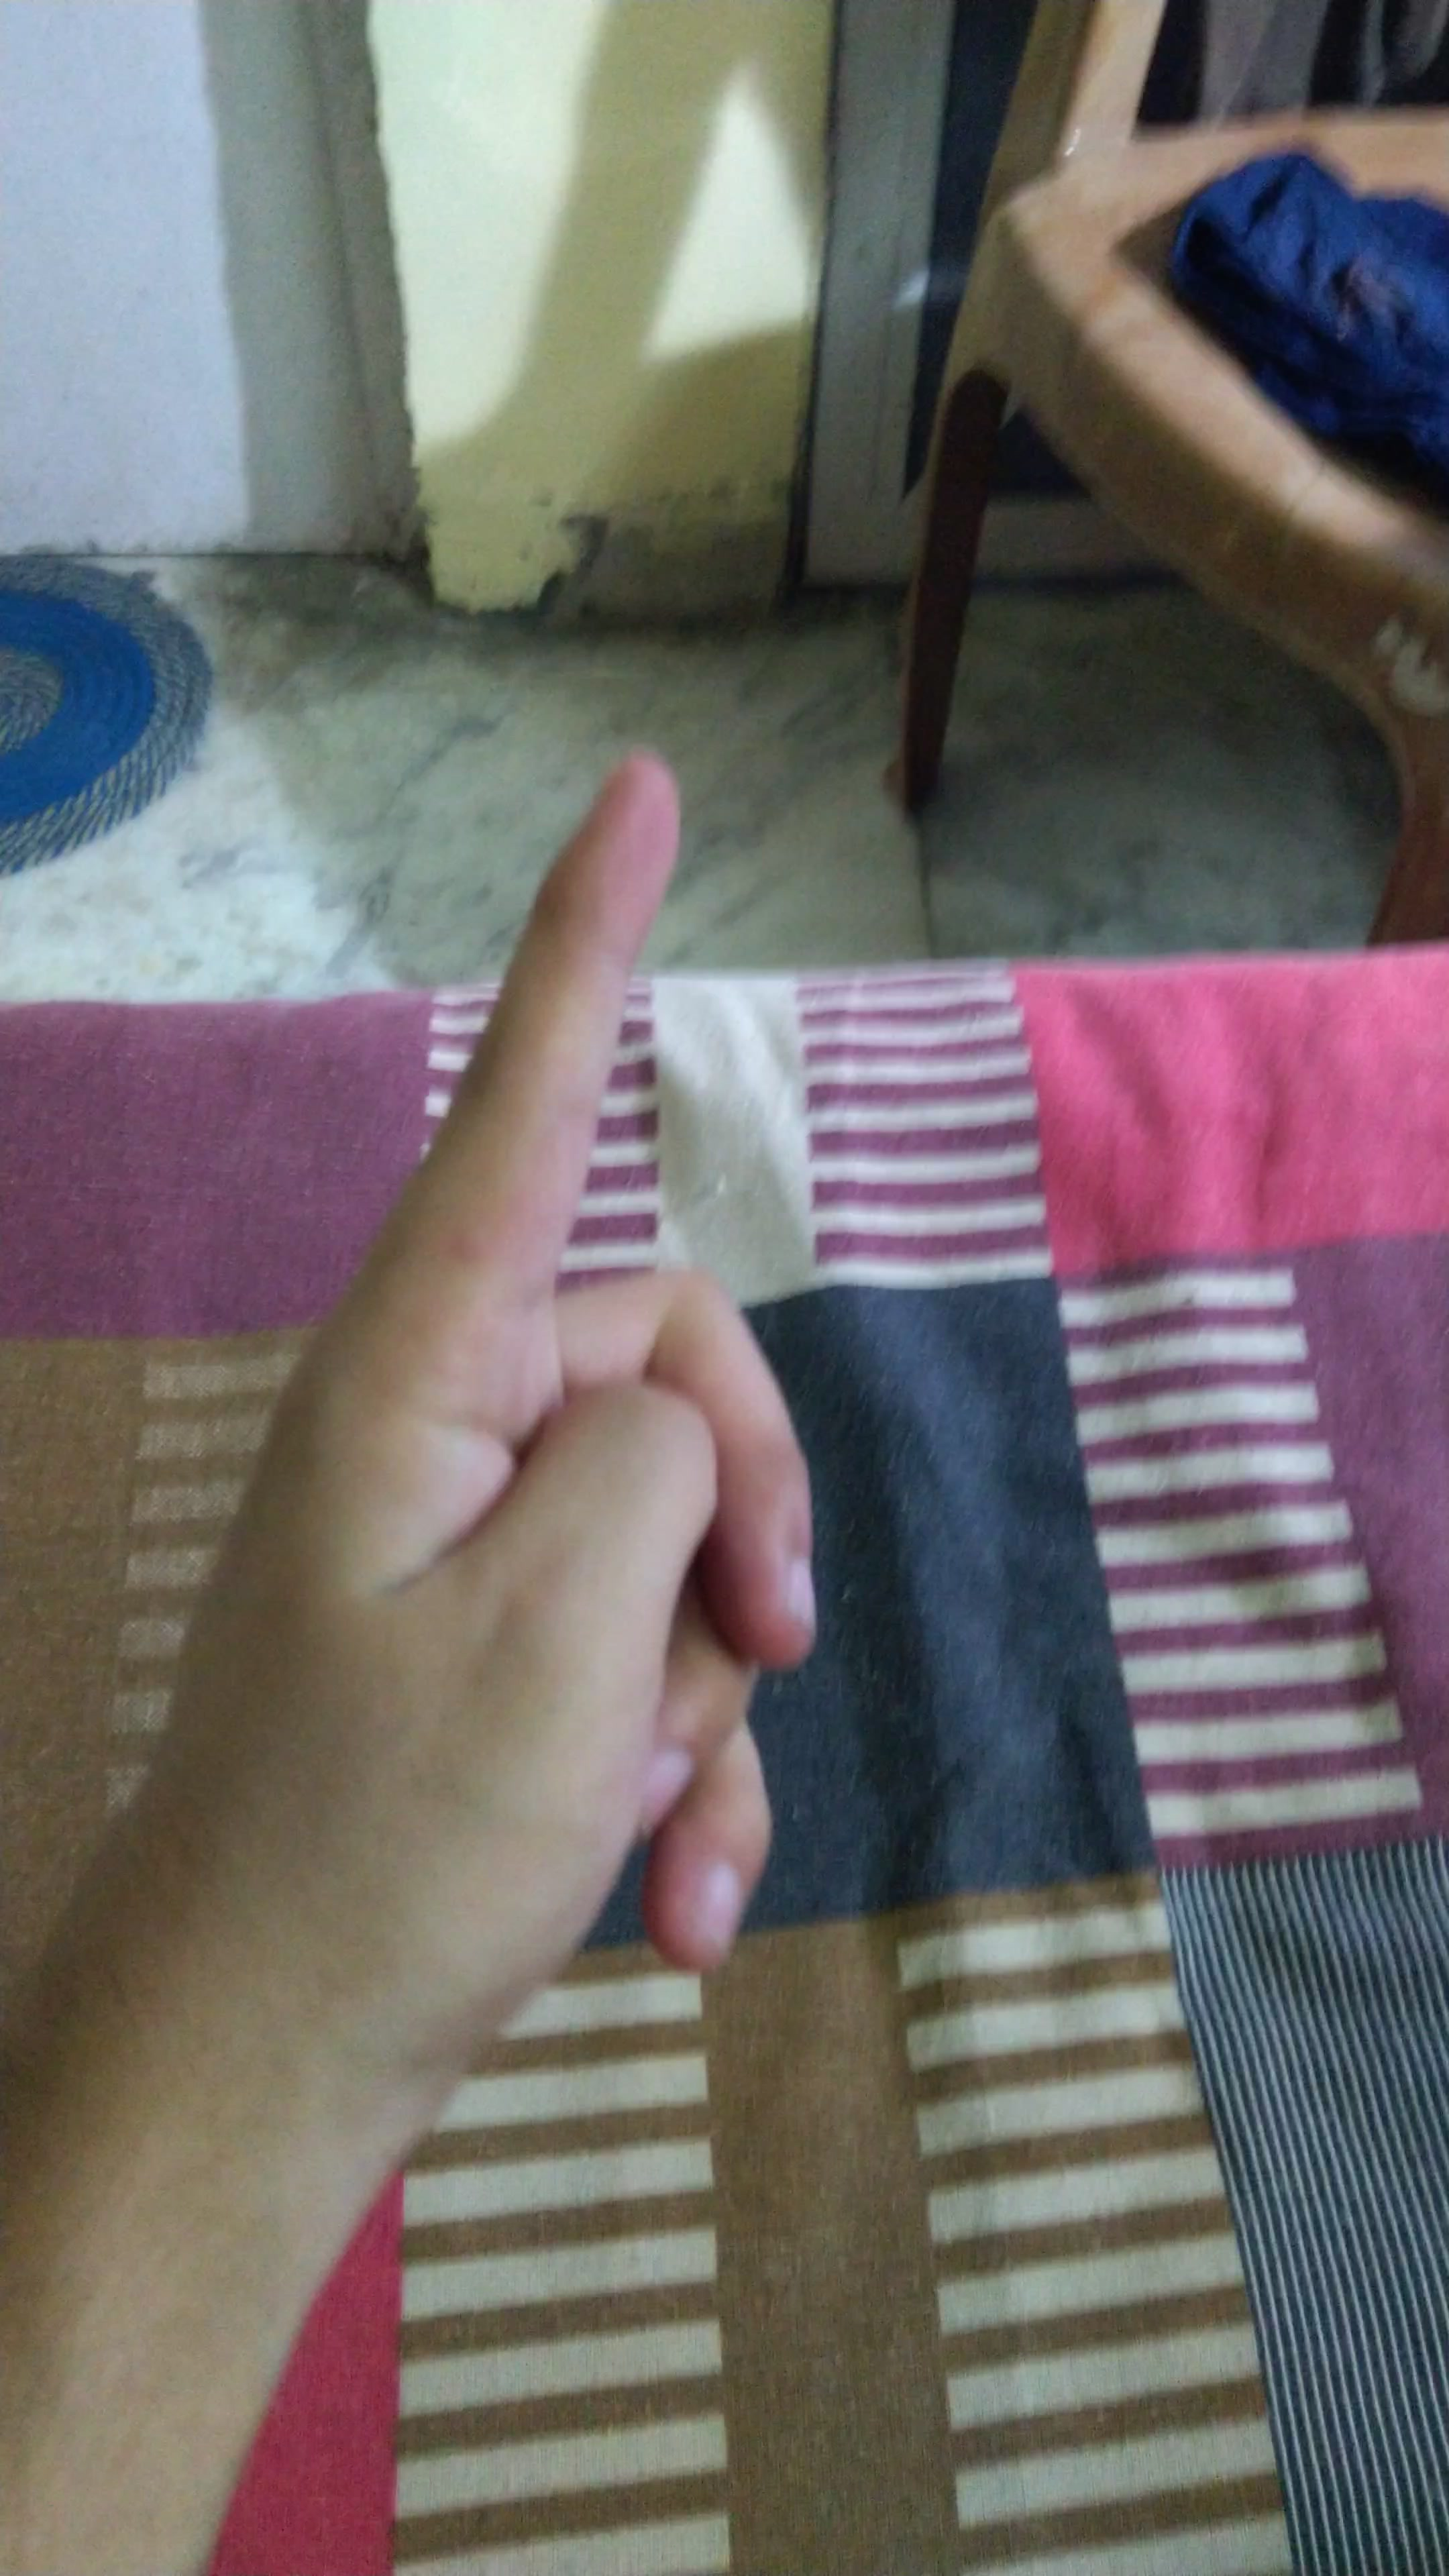hand: (175, 720, 899, 2024)
